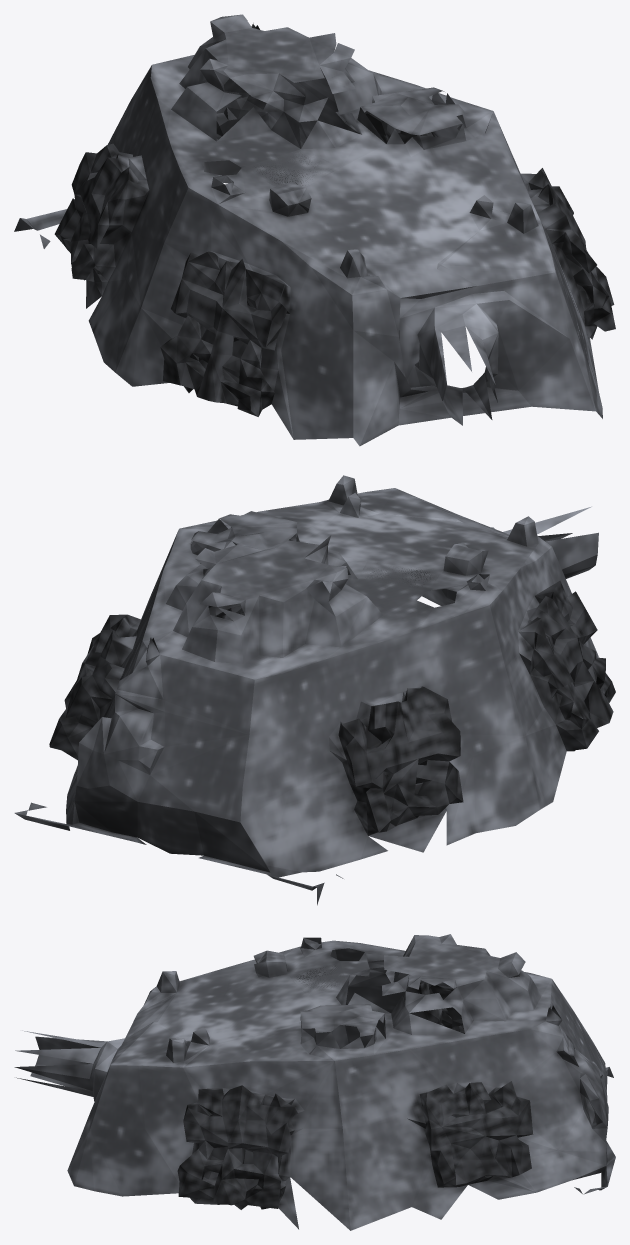
The model's file is kingtiger_turret.obj.
The picture shows the model from 3 angles, top to bottom: view 1: azimuth 30°, elevation 25°; view 2: azimuth 150°, elevation 25°; view 3: azimuth 270°, elevation 25°; orthographic projection. The views are drawn at different scales.
Visible parts, largest first — view 1: kingtiger_turret; view 2: kingtiger_turret; view 3: kingtiger_turret.
Boxes of the visible parts, x1,y1,x2,y2 form: kingtiger_turret: (14, 14, 615, 446); kingtiger_turret: (14, 475, 615, 905); kingtiger_turret: (14, 934, 615, 1230).
Bounding box in the file's own units: 2.71 × 1.44 × 4.06.
1 material, 1 textured.
